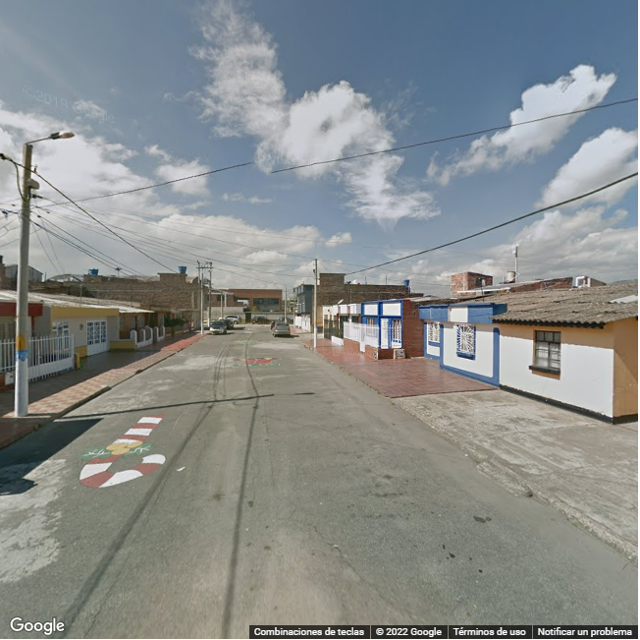D00: (298, 514, 416, 621), (263, 441, 281, 484)
